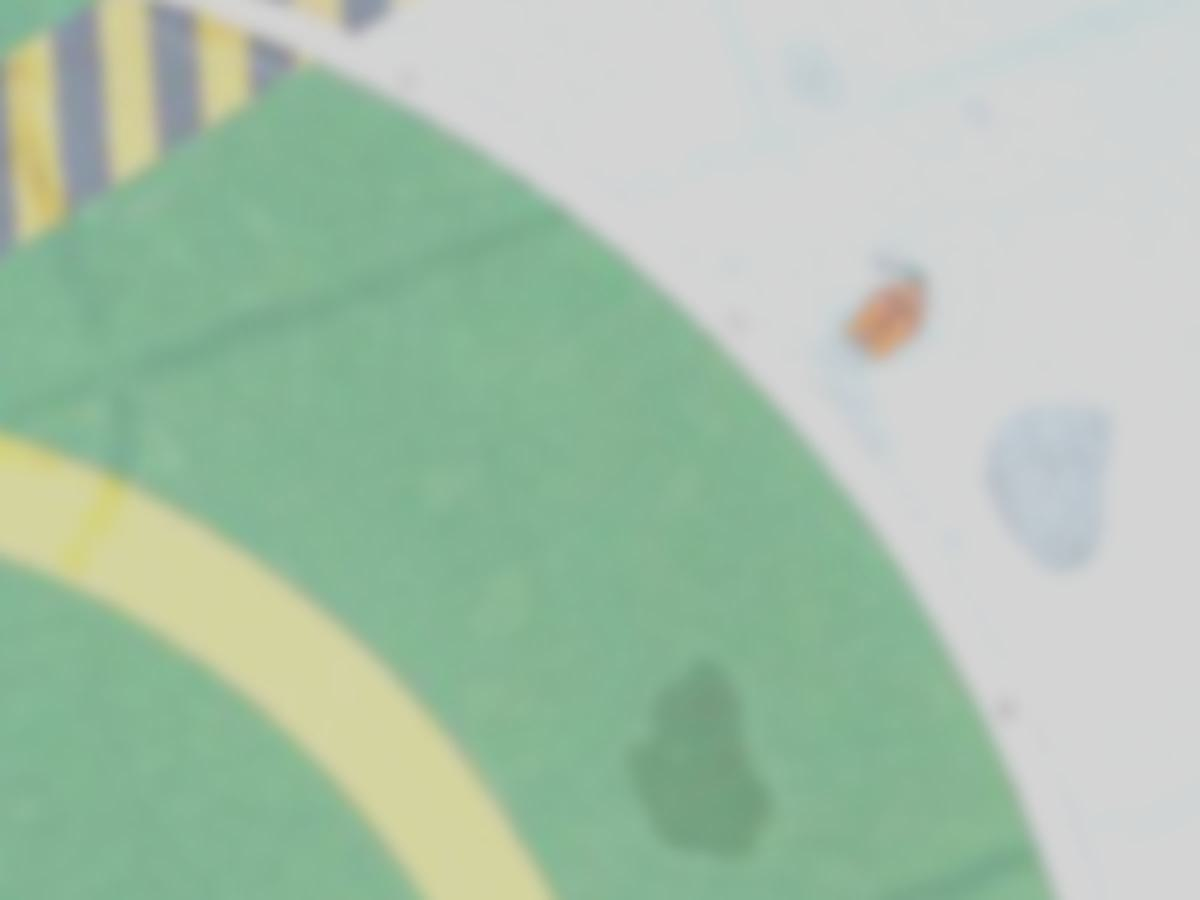Apron: (1, 428, 563, 897)
